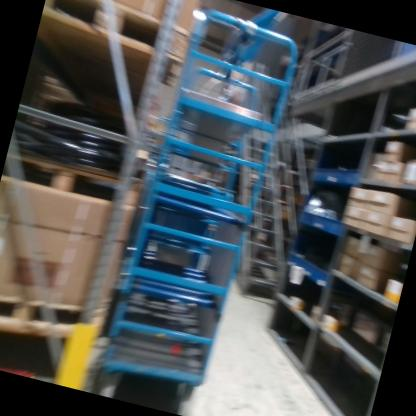pallet: (37, 0, 198, 70), (0, 144, 147, 215), (0, 278, 110, 363)
